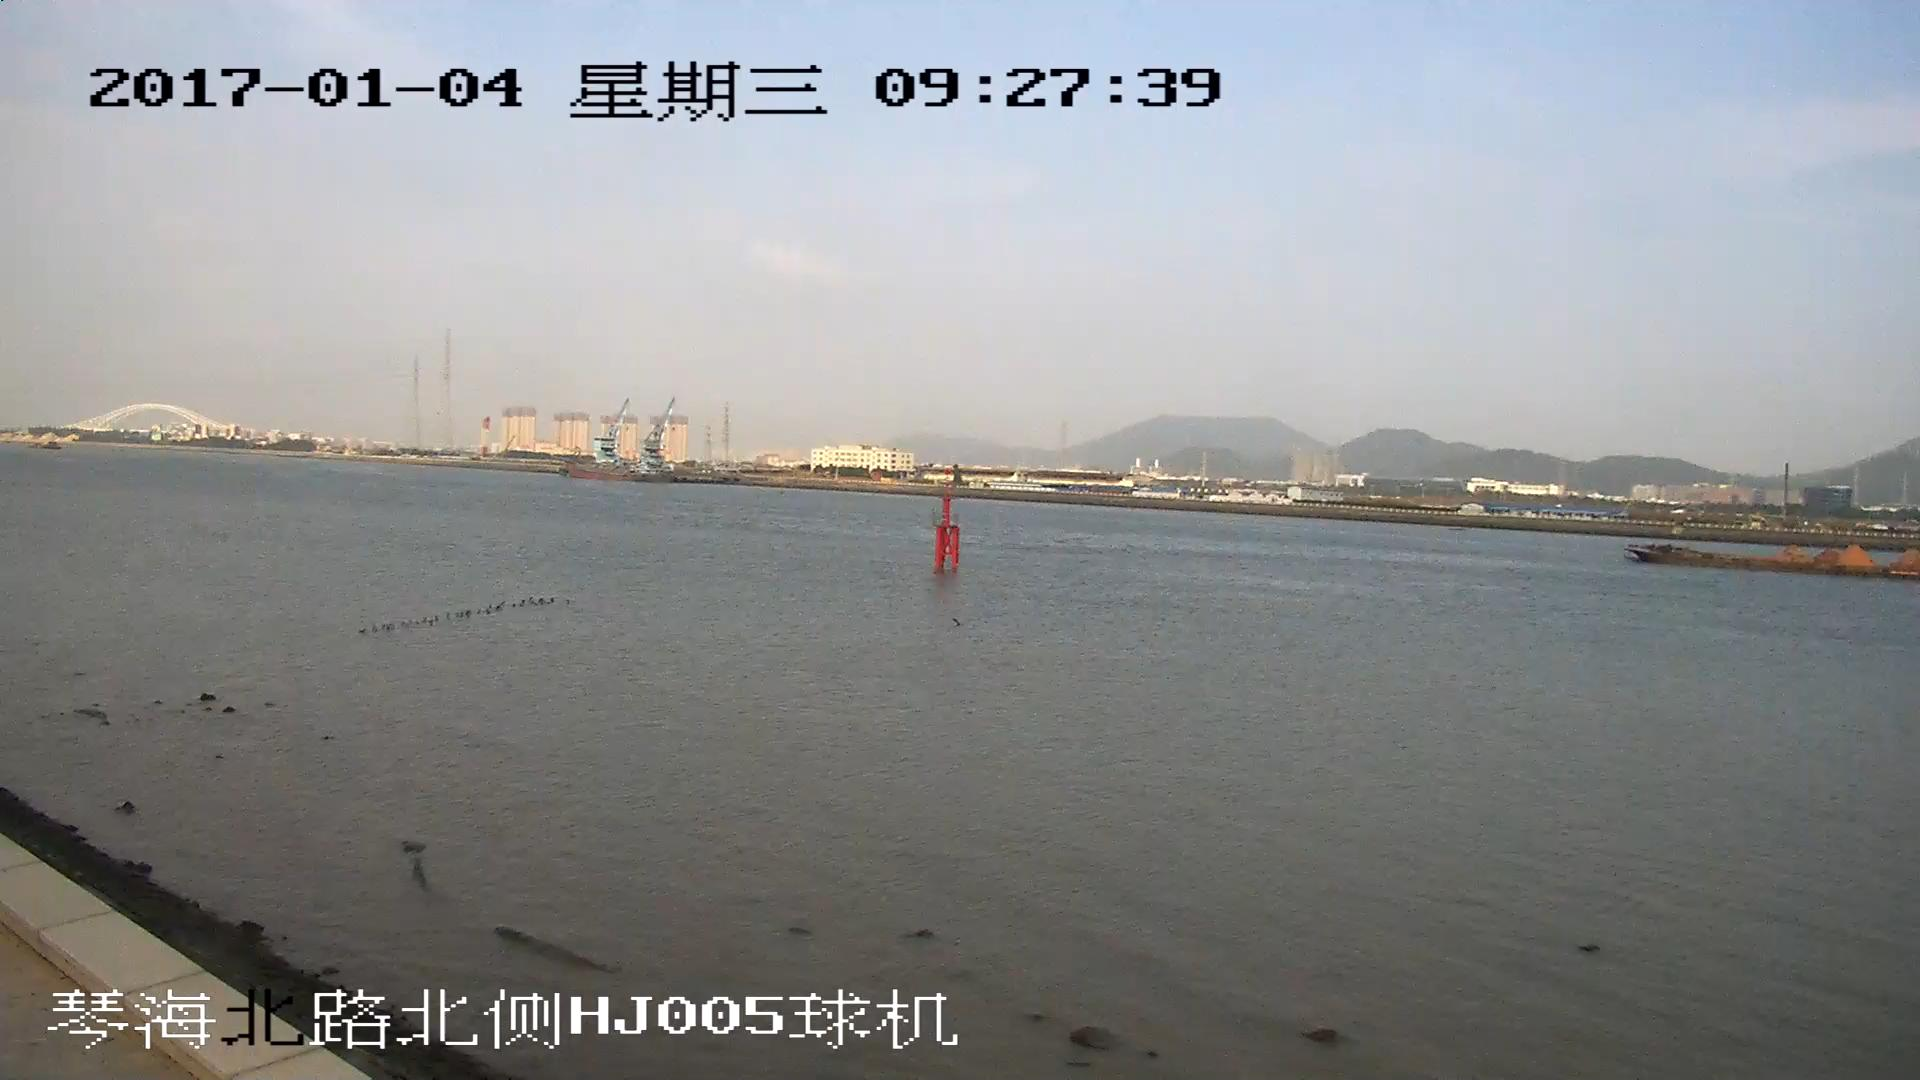ore carrier: (1640, 544, 1920, 574)
